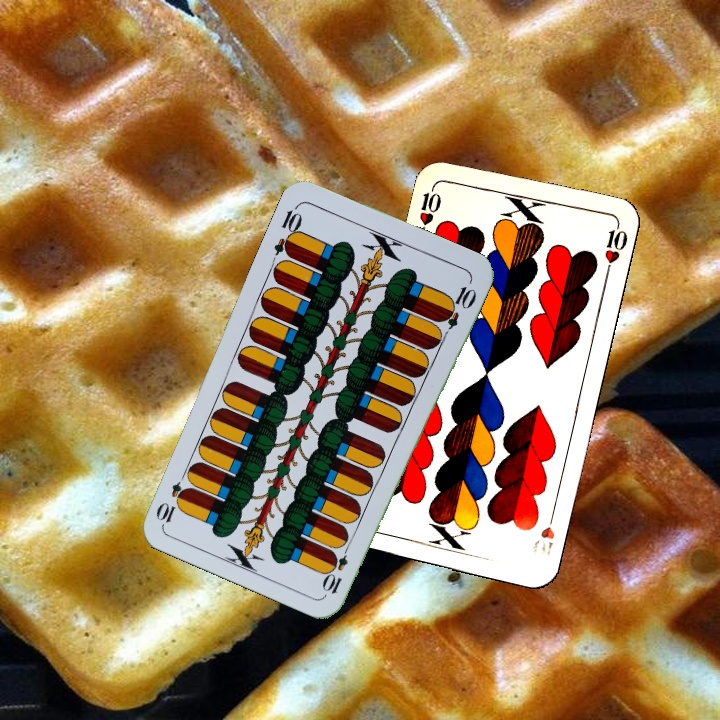E10: (270, 201, 305, 260), (320, 539, 353, 597)
H10: (415, 180, 444, 238), (528, 506, 558, 559)
